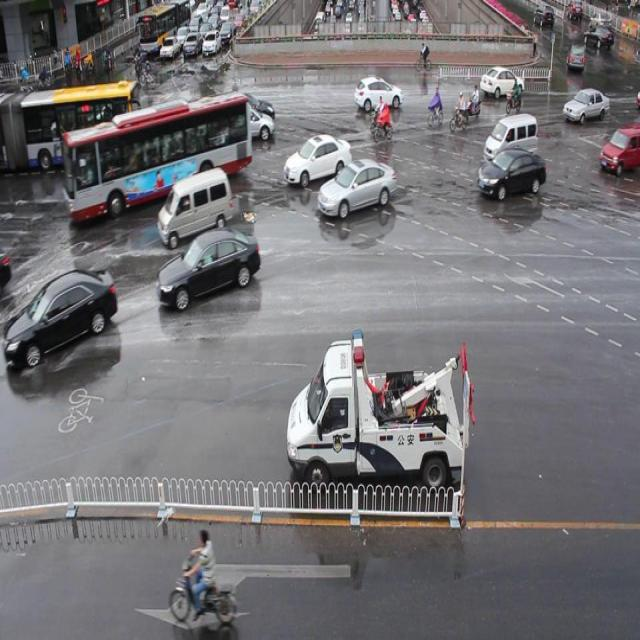bus: (286, 326, 475, 488)
car: (0, 266, 116, 366), (158, 229, 262, 306), (318, 157, 395, 218), (283, 132, 351, 187), (476, 146, 545, 200), (213, 107, 273, 142), (598, 126, 640, 173), (221, 92, 275, 125), (354, 76, 402, 110), (562, 86, 607, 121), (479, 64, 524, 98)
truck: (158, 168, 234, 243), (482, 114, 536, 164)
van: (63, 92, 251, 217), (1, 82, 139, 169)
